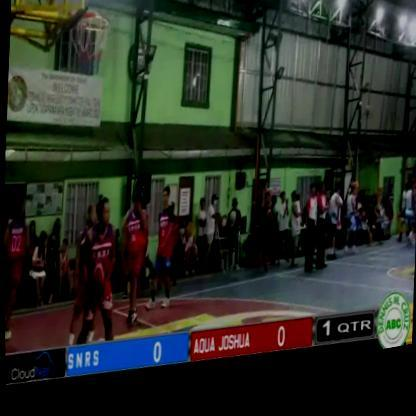basketball: (86, 256, 108, 304)
rim: (64, 0, 113, 95)
